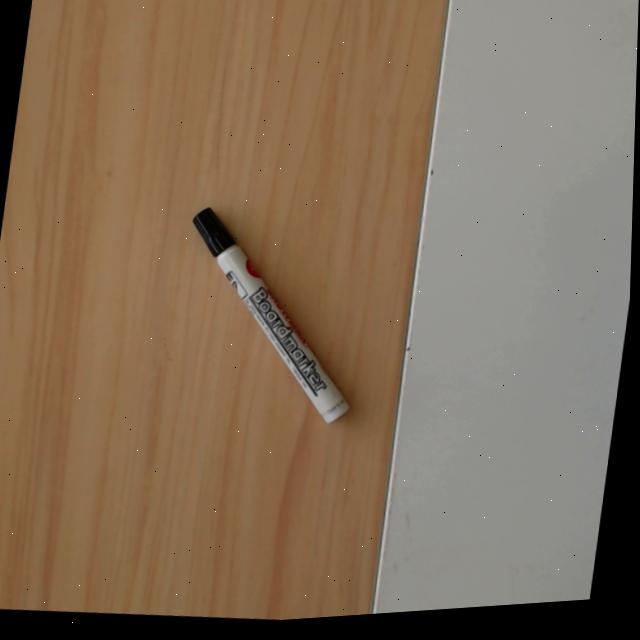Marker-Pen: (186, 202, 352, 424)
